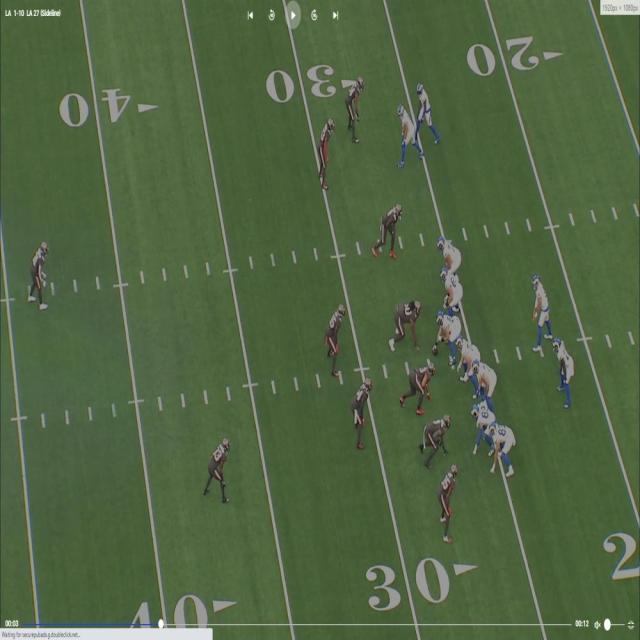center: (432, 304, 458, 362)
db: (24, 240, 52, 306), (206, 440, 232, 493), (348, 77, 366, 140), (321, 113, 336, 188), (442, 463, 458, 532)
lb: (328, 300, 347, 368), (353, 378, 368, 444)
qb: (531, 274, 550, 347)
skill: (489, 424, 520, 476), (416, 82, 438, 145), (554, 336, 572, 400), (398, 102, 417, 158), (472, 404, 491, 448)
